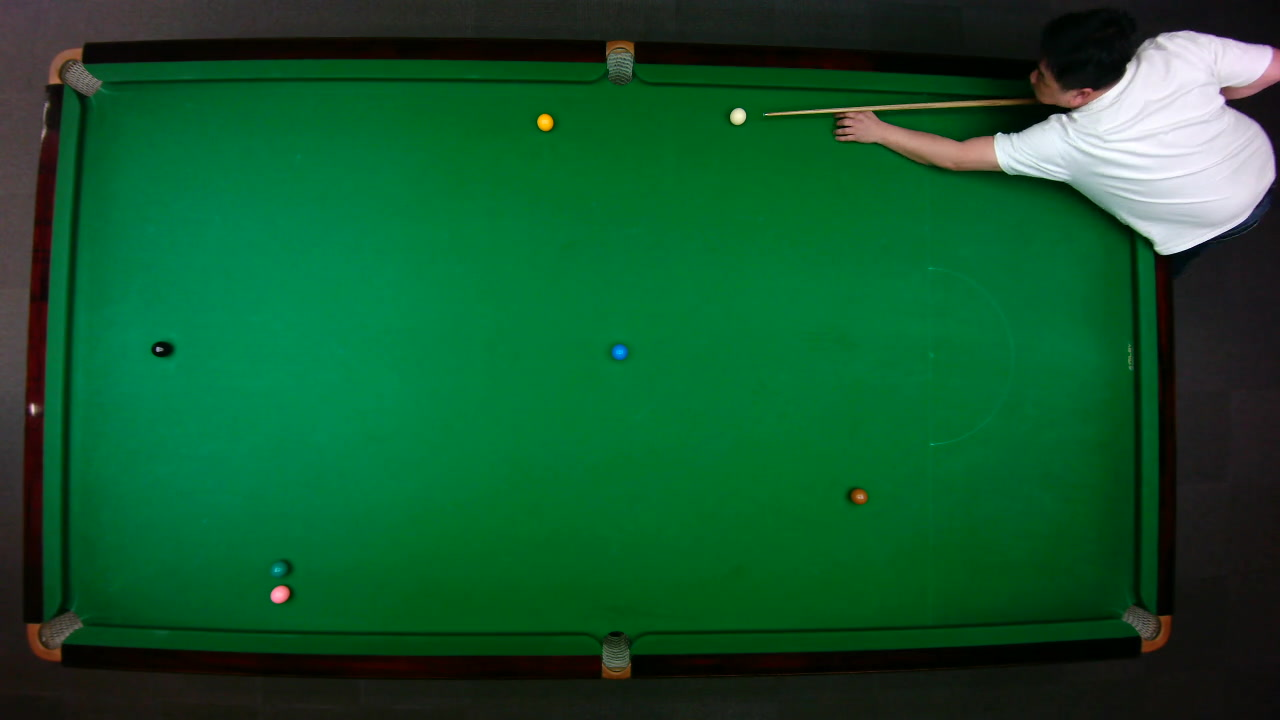bag: (25, 609, 84, 662), (46, 46, 103, 97), (1119, 603, 1171, 651), (601, 629, 630, 680), (605, 39, 633, 85)
black: (149, 339, 171, 357)
blue: (610, 342, 628, 360)
brown: (848, 487, 868, 504)
cue: (761, 95, 1058, 118)
green: (268, 559, 289, 576)
pink: (268, 583, 290, 604)
white: (728, 106, 746, 125)
yellow: (535, 112, 554, 131)
zone: (926, 265, 1013, 446)
